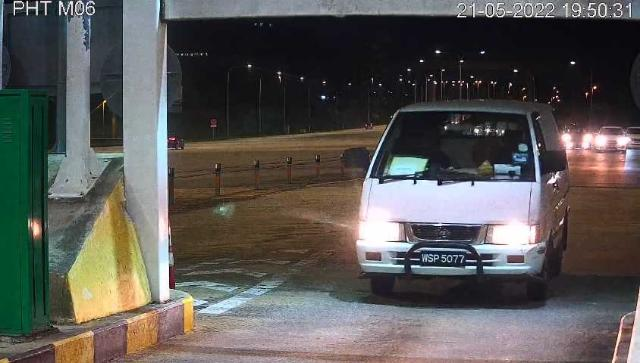License_Plate: (422, 250, 466, 270)
van: (357, 100, 571, 303)
